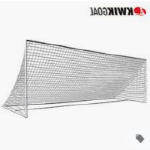goals: (3, 37, 149, 117)
